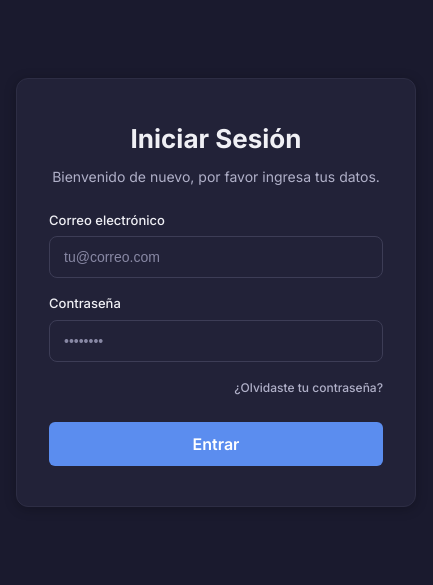
LoginPage › muestra mensaje especifico en 401
Type "demo@test.com" into the field labelled "Correo electrónico" at (216, 257), box [49,236,383,278]
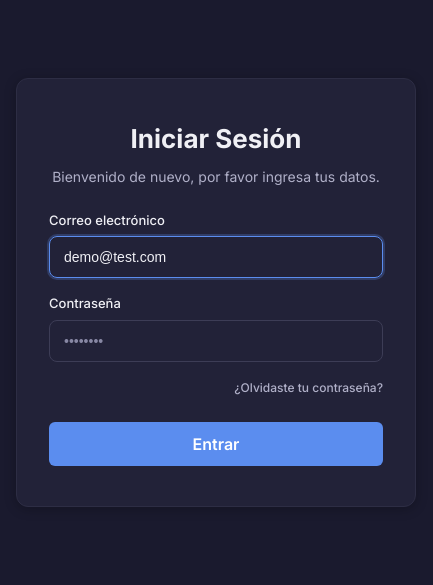
Type "bad" into the password field labelled "Contraseña" at (216, 340), box [49,320,383,362]
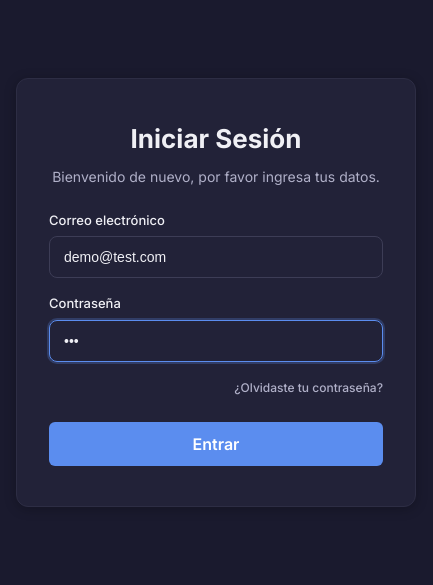
Click the button "Entrar" at (216, 444), box [49,422,383,466]
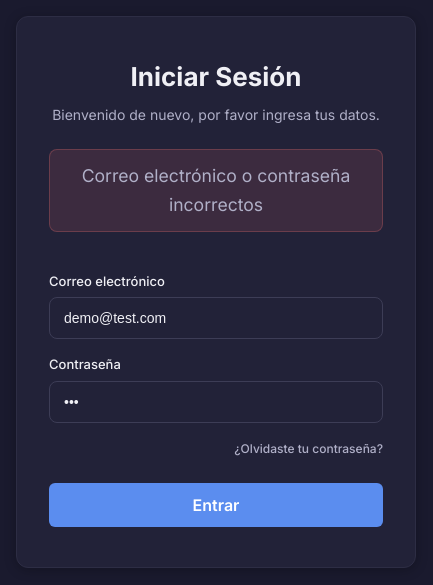
Expected: the text "Correo electrónico o contraseña incorrectos" is shown, [49,149,383,232]
